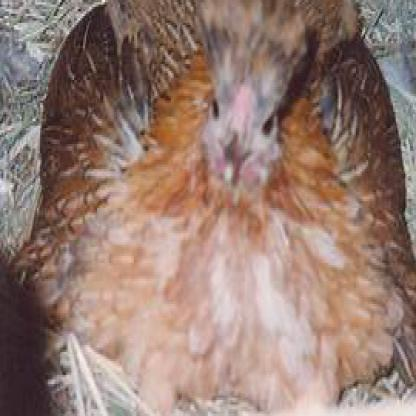chicken: (40, 0, 415, 409)
